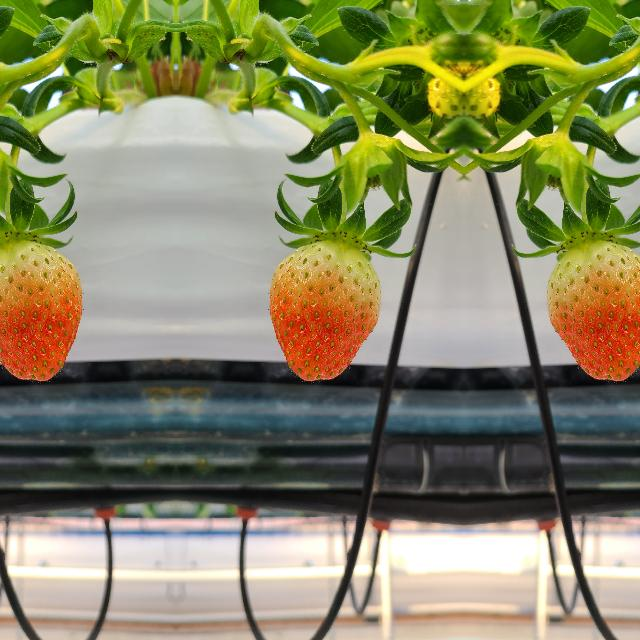Health_75: (266, 239, 380, 383), (546, 239, 640, 383), (0, 239, 84, 383)
